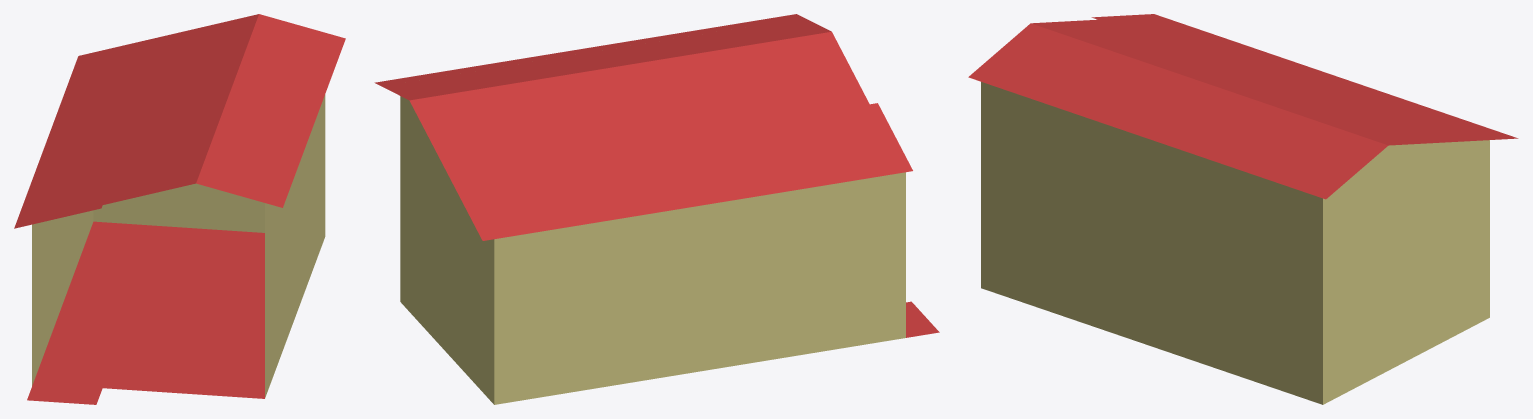
3 views of the same model, side by side, from view 1: azimuth 30°, elevation 25°; view 2: azimuth 150°, elevation 25°; view 3: azimuth 270°, elevation 25° (orthographic). The views are drawn at different scales.
Size of the model in its own units: 19.73 by 20.1 by 9.62.
